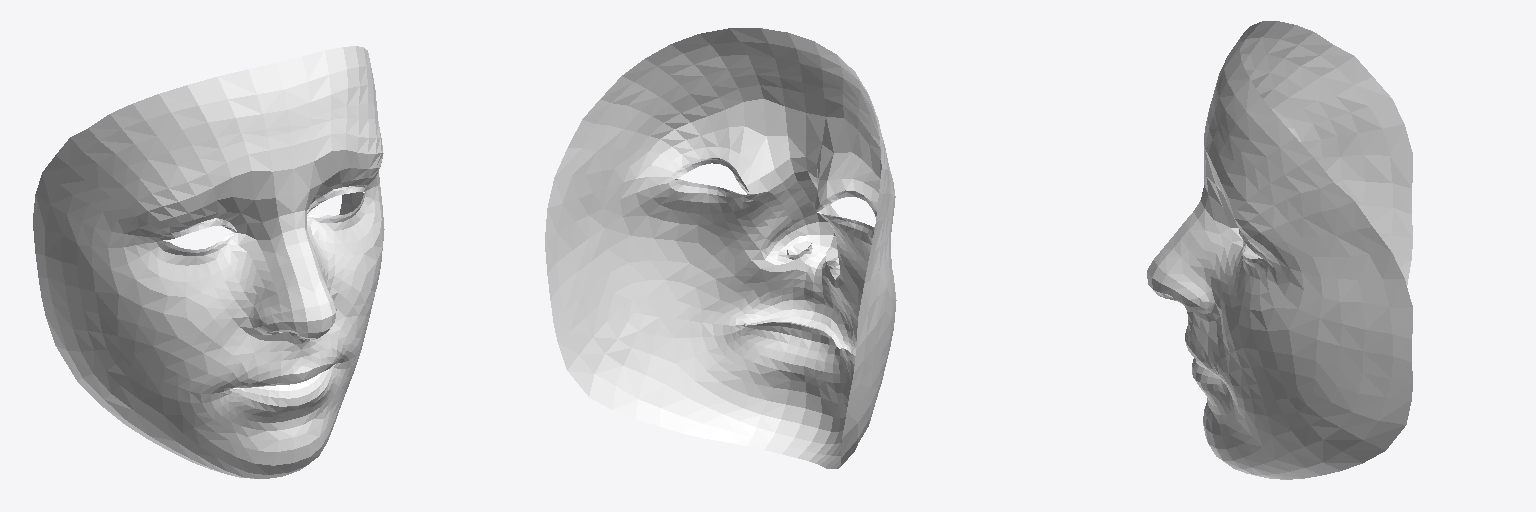
The model's file is browInnerUp.obj.
3 renders of one model, left to right at view 1: azimuth 30°, elevation 25°; view 2: azimuth 150°, elevation 25°; view 3: azimuth 270°, elevation 25°, orthographic.
Parts seen in each view (by area): view 1: default; view 2: default; view 3: default.
Part boxes in pixels (x1,y1,x2,y2): default: (33,46,384,478); default: (545,28,896,468); default: (1147,21,1412,479).
Bounding box in the file's own units: 0.1447 × 0.182 × 0.1055.